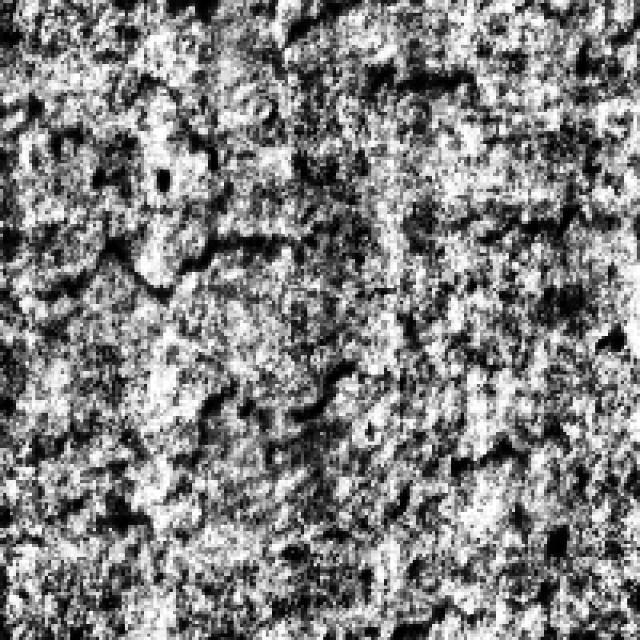Pitted_Surface: (22, 348, 614, 538), (0, 58, 352, 304), (368, 0, 611, 243)
